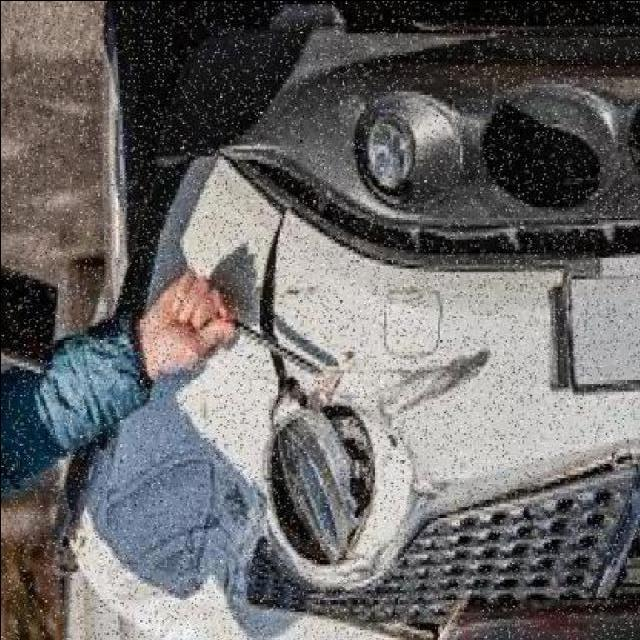front-bumper-dent: (137, 51, 640, 455)
